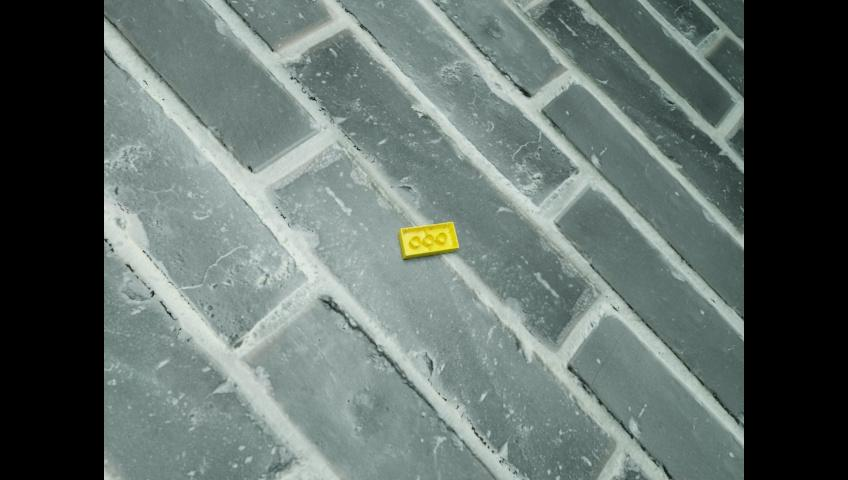4x2_yellow: (398, 221, 458, 258)
